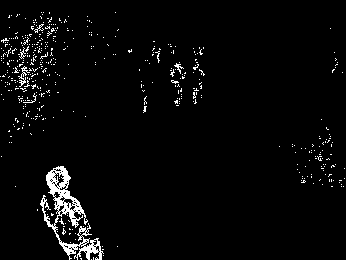person: (40, 164, 103, 260), (169, 61, 186, 106), (192, 57, 205, 106)
